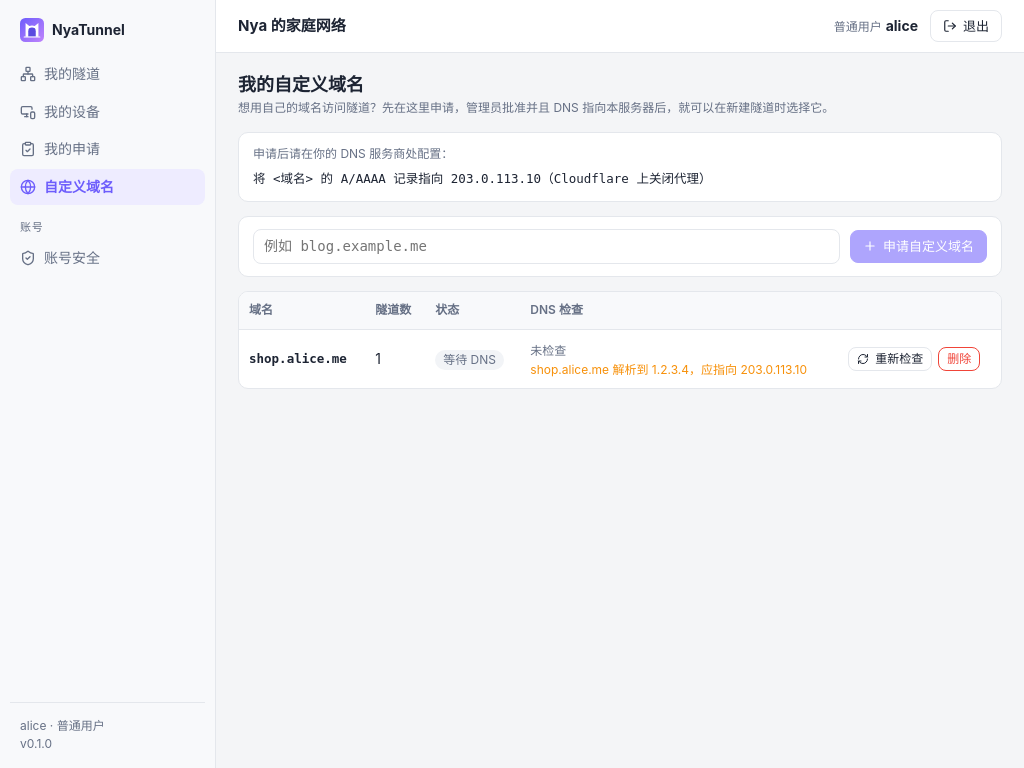
Test case: custom domains › lets a user ask for a domain and shows the DNS instruction
This screenshot has width=1024, height=768.
Expected: the heading "我的自定义域名" is shown, left=238, top=74, right=364, bottom=95
Expected: the text "等待 DNS" is shown, left=435, top=350, right=504, bottom=370
Type "blog.alice.me" into the field named "自定义域名" at (546, 246), box left=253, top=229, right=840, bottom=264
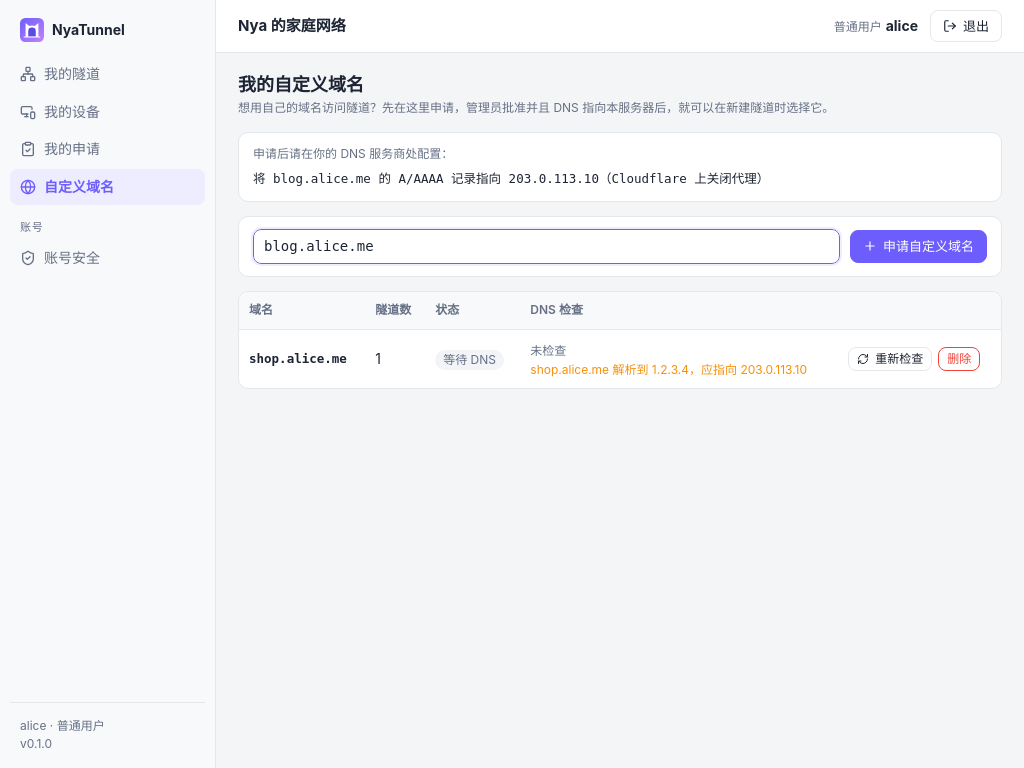
Result: the text with test id "dns-instruction" reads "将 blog.alice.me 的 A/AAAA 记录指向 203.0.113.10（Cloudflare 上关闭代理）" at left=253, top=171, right=769, bottom=186
Click the button "申请自定义域名" at (918, 246), box left=850, top=230, right=987, bottom=263
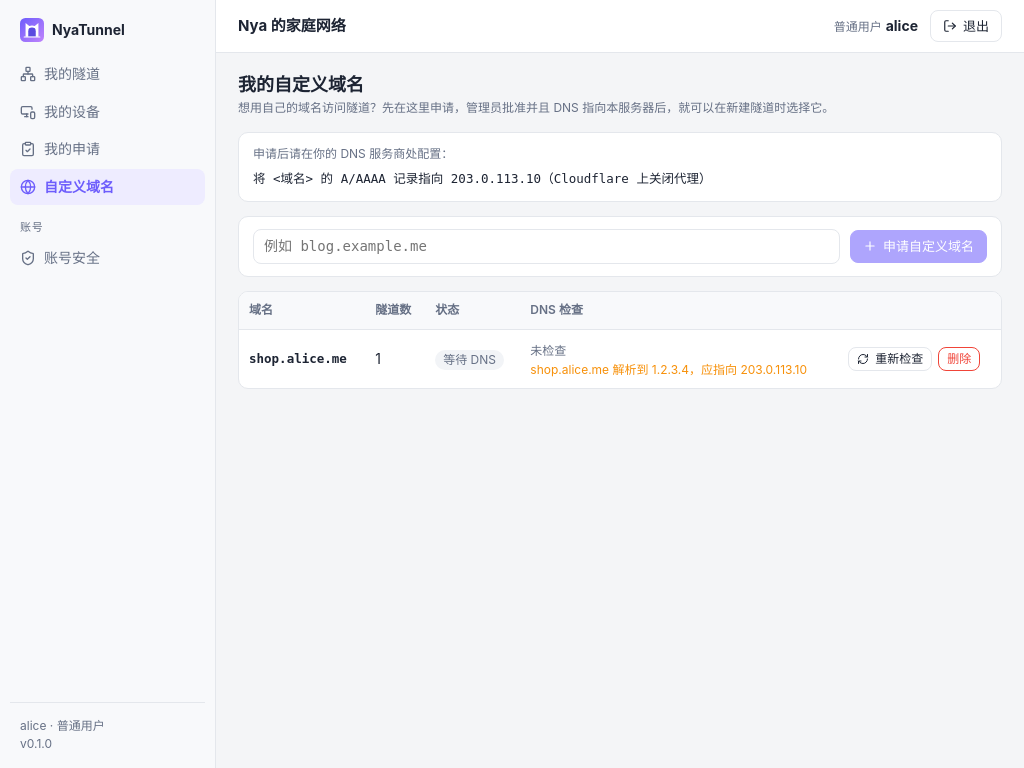
Click the button with aria-label "重新检查 shop.alice.me" at (890, 359), box left=848, top=347, right=932, bottom=372
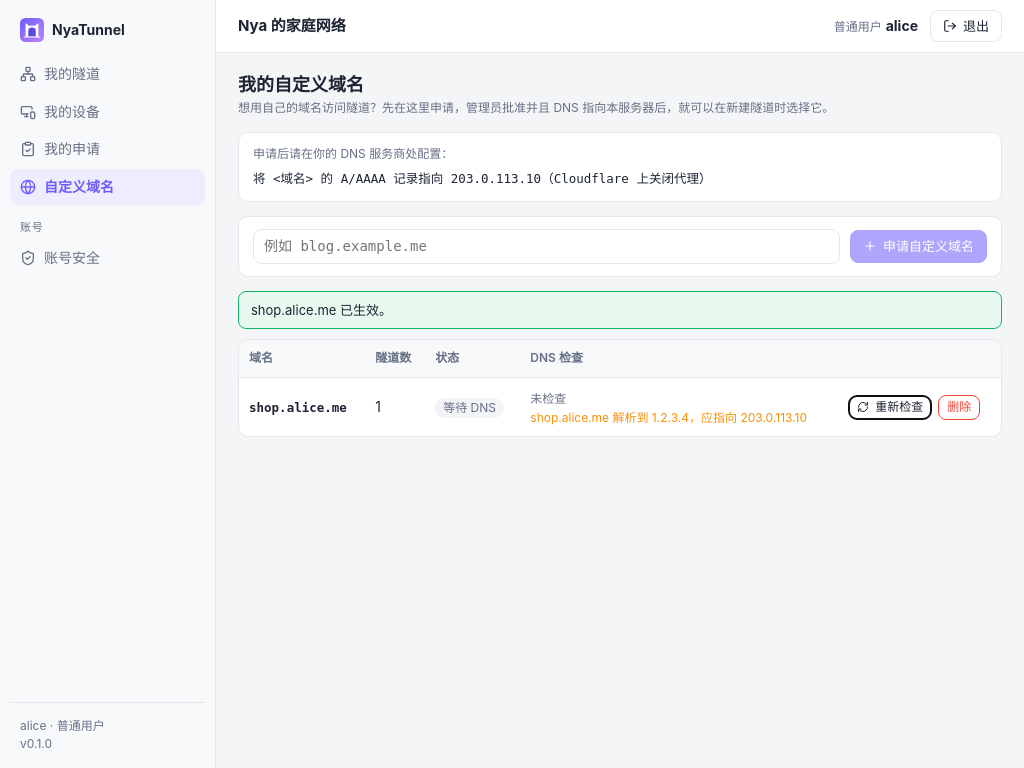
Result: the text "shop.alice.me 已生效。" is shown at left=238, top=291, right=1002, bottom=329
